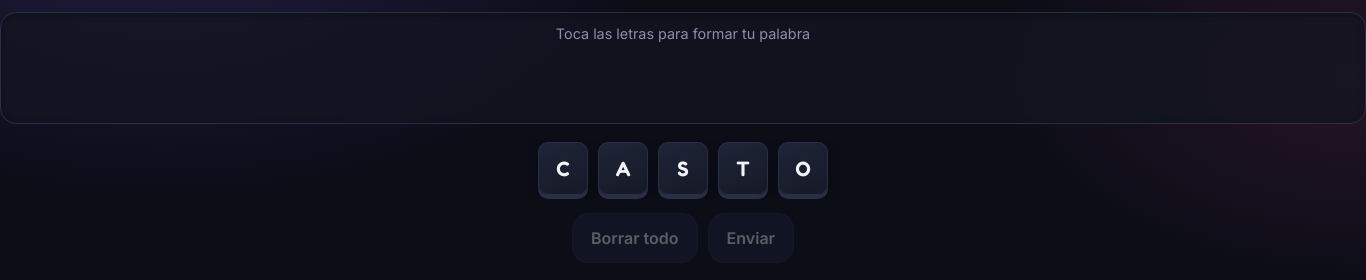
Test: LetterBoard › quitar una ficha del medio de la respuesta no afecta a las demás
The width and height of the screenshot is (1366, 280).
Click the button "C" at {"x": 563, "y": 169}, box [538,142,588,195]
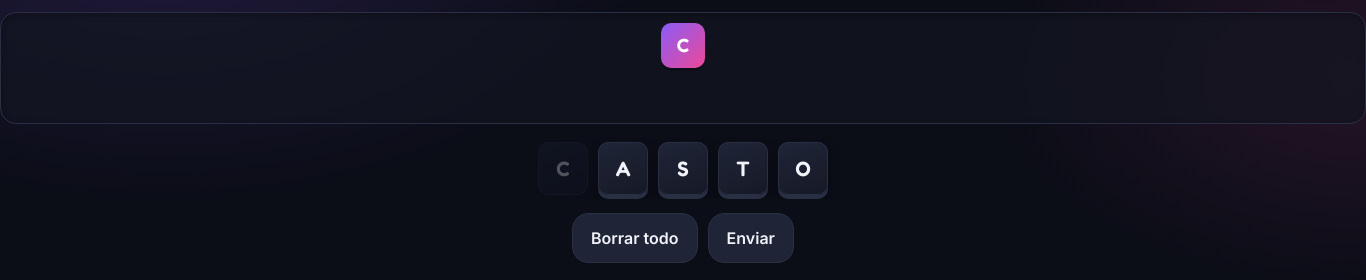
Click the button "A" at {"x": 623, "y": 169}, box [598,142,648,195]
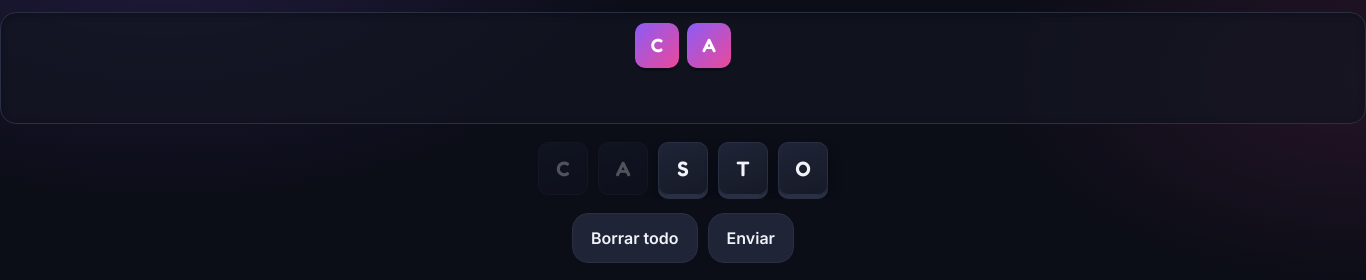
Click the button "S" at {"x": 683, "y": 169}, box [658,142,708,195]
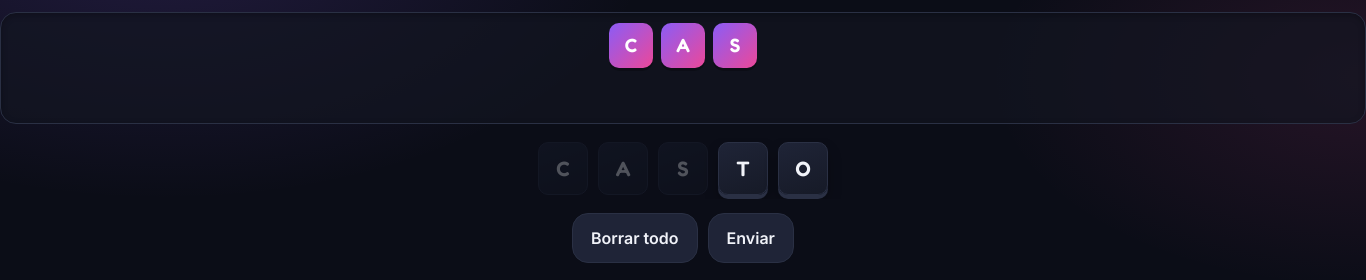
Click the button named "Quitar A" at {"x": 683, "y": 45}, box [661,23,705,68]
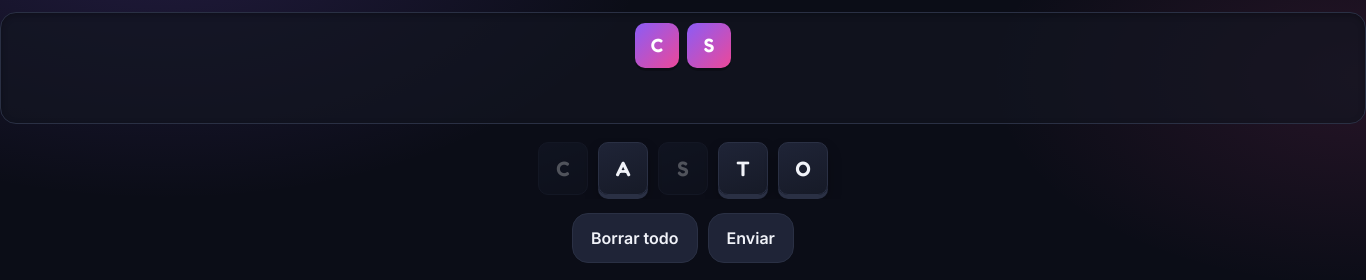
Now the element named "Tu palabra" reads "C S", box [0,12,1365,124]
Now the button "A" is enabled, box [598,142,648,195]
